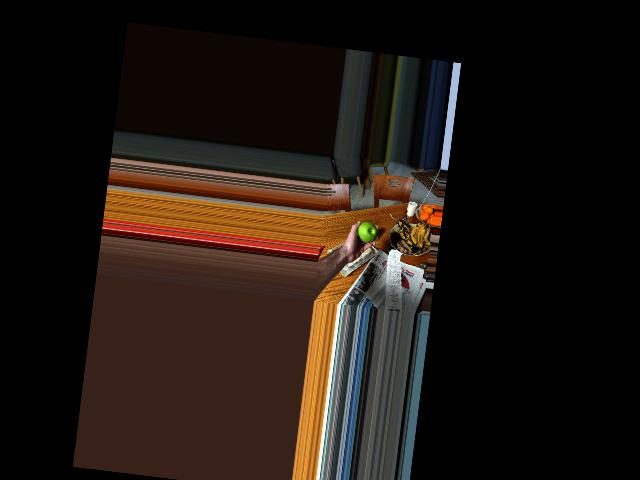apple: (356, 219, 377, 244)
